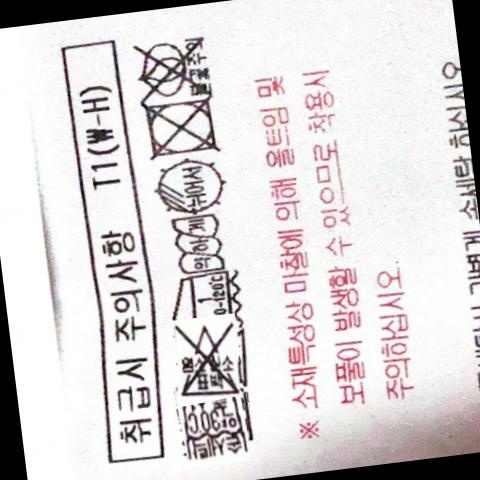DN_bleach: (173, 322, 244, 397)
DN_tumble_dry: (143, 95, 220, 162)
dry_flat_in_shade: (158, 158, 230, 215)
hand_wash: (182, 395, 246, 464)
iron_low: (171, 272, 245, 320)
wring: (174, 216, 232, 274)
